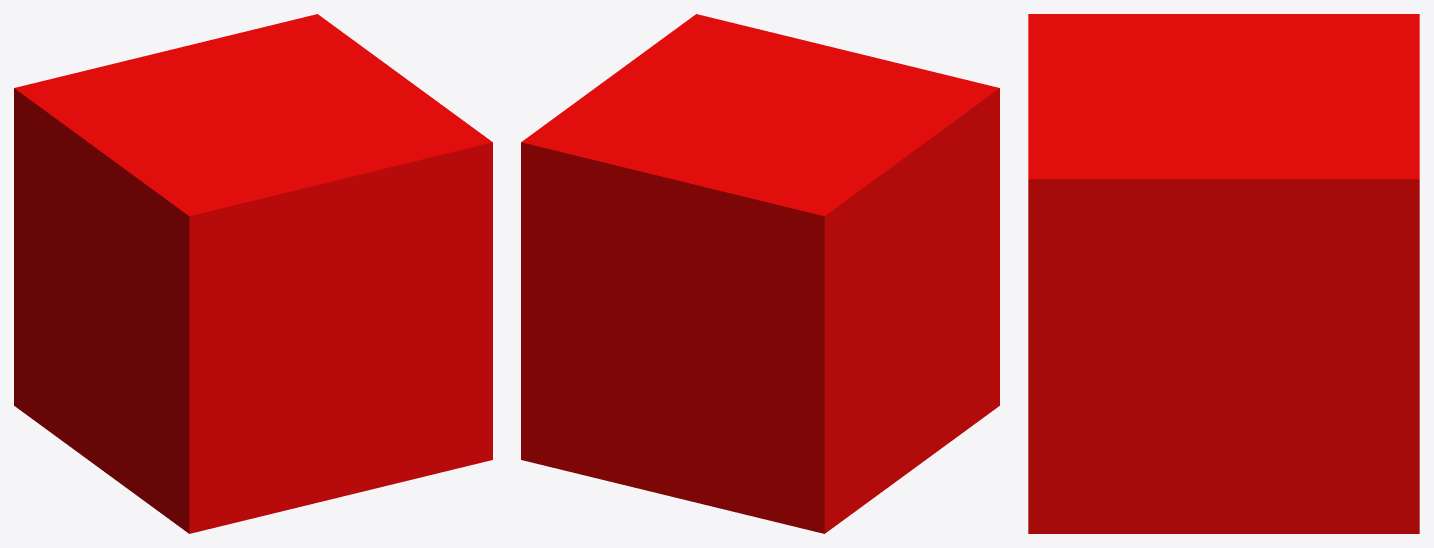
The model's file is Player.fbx.
3 renders of one model, left to right at view 1: azimuth 30°, elevation 25°; view 2: azimuth 150°, elevation 25°; view 3: azimuth 270°, elevation 25°, orthographic. The views are drawn at different scales.
Parts seen in each view (by area): view 1: Player; view 2: Player; view 3: Player.
Boxes of the visible parts, x1,y1,x2,y2 form: Player: [14, 14, 492, 533]; Player: [521, 14, 999, 533]; Player: [1028, 14, 1419, 533].
Size of the model in its own units: 80 by 80 by 80.
